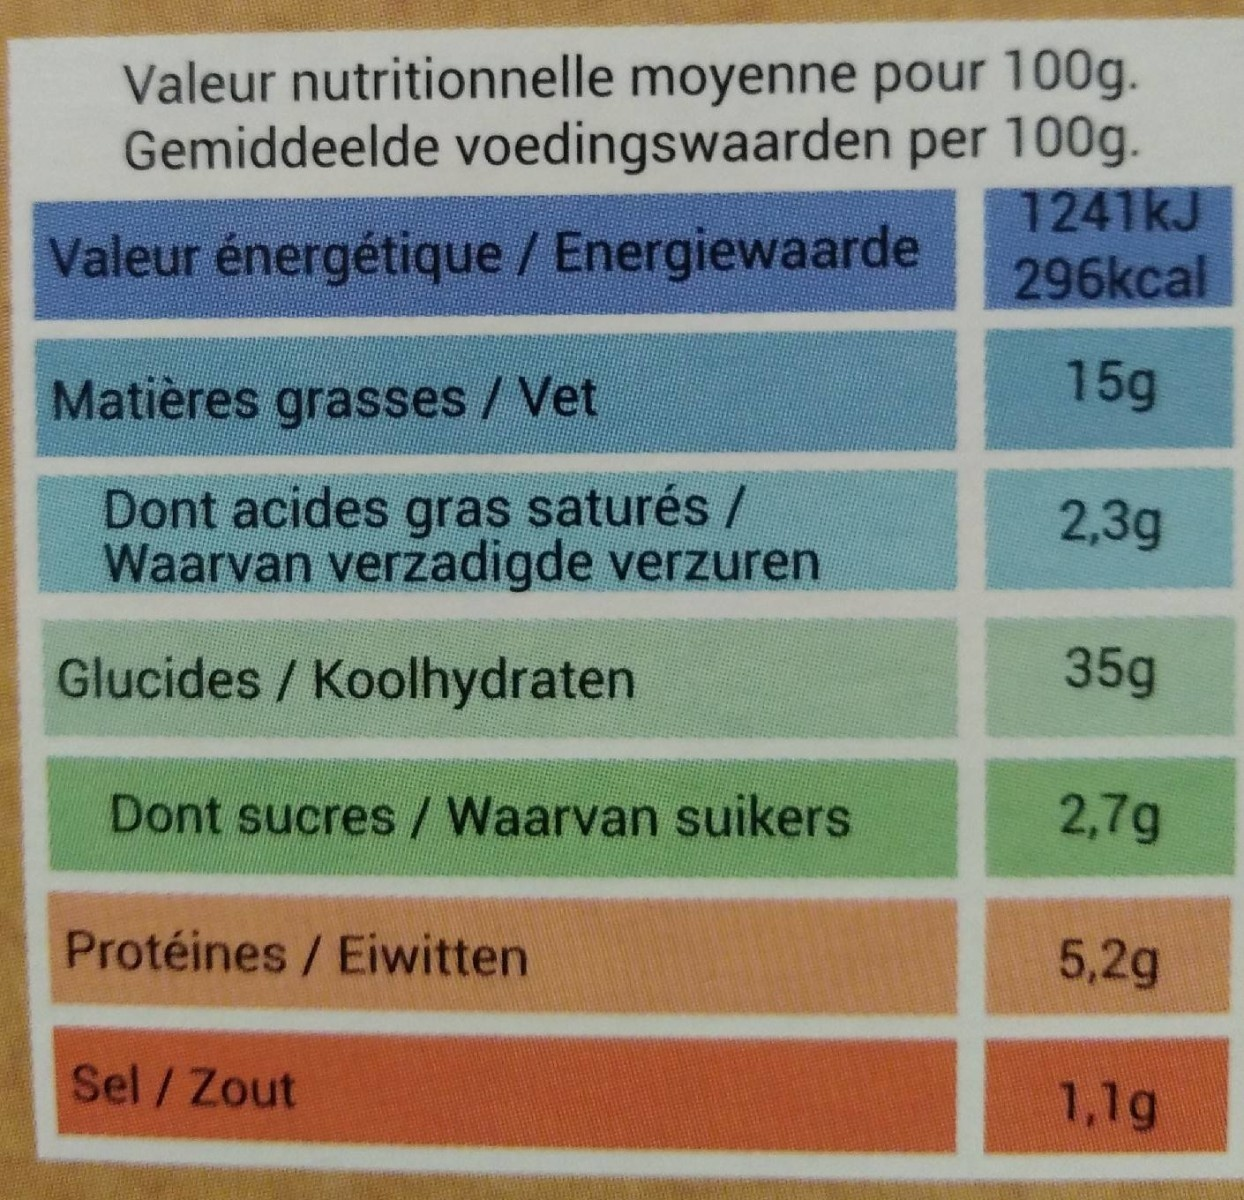column: (44, 214, 930, 1136), (1003, 188, 1212, 1146)
table: (8, 39, 1244, 1171)
